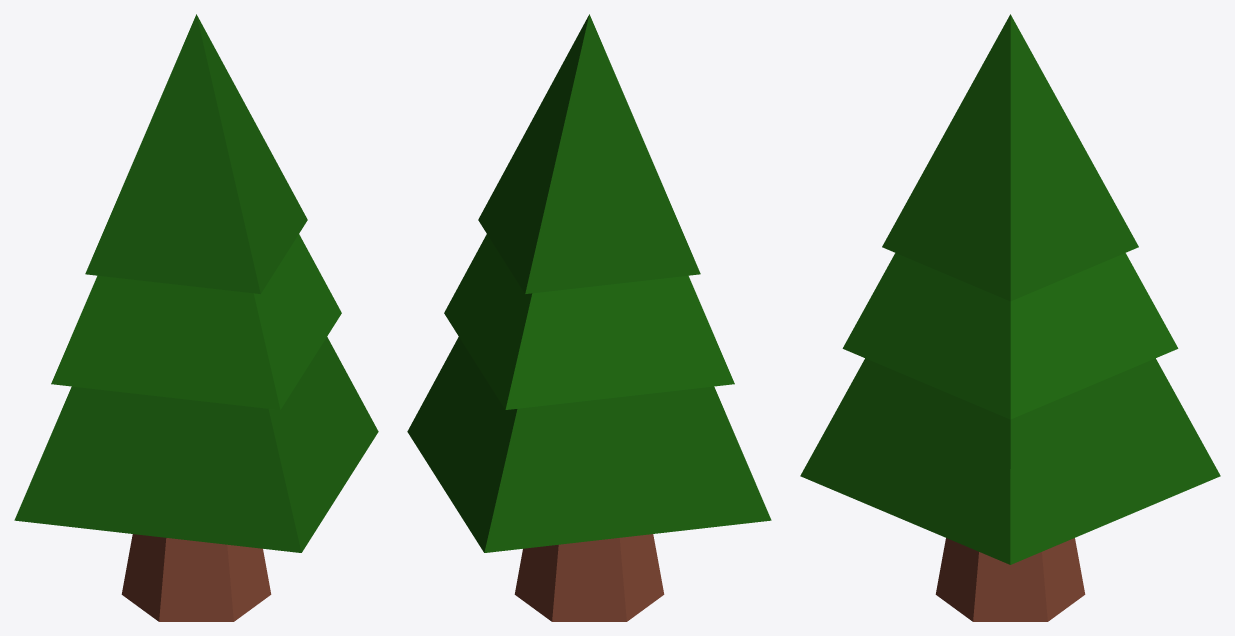
File: Boom1.fbx
3 views of the same model, side by side, from view 1: azimuth 30°, elevation 25°; view 2: azimuth 150°, elevation 25°; view 3: azimuth 270°, elevation 25° (orthographic).
Parts seen in each view (by area): view 1: Cylinder; view 2: Cylinder; view 3: Cylinder.
Part boxes in pixels (x1,y1,x2,y2): Cylinder: (14,14,378,621); Cylinder: (407,14,771,621); Cylinder: (800,14,1220,621).
Size of the model in its own units: 83.61 by 127 by 83.61.
